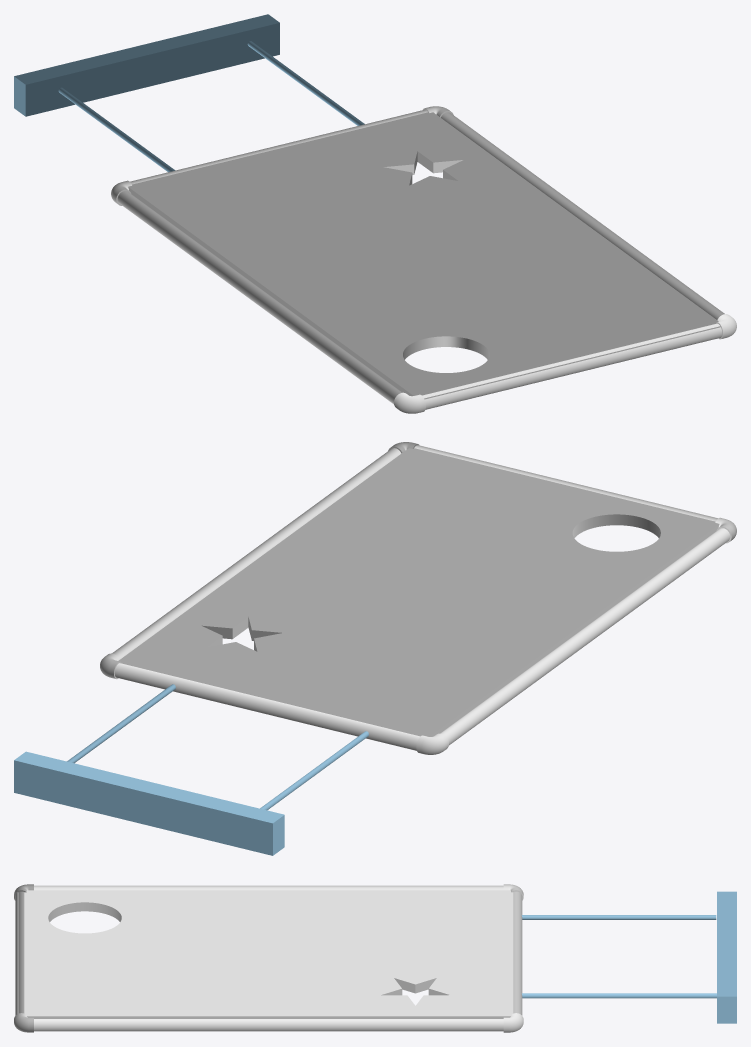
The model's file is torpedo2.obj.
The picture shows the model from 3 angles, top to bottom: view 1: azimuth 30°, elevation 25°; view 2: azimuth 150°, elevation 25°; view 3: azimuth 270°, elevation 25°; orthographic projection. The views are drawn at different scales.
Parts seen in each view (by area): view 1: mesh31, mesh27, mesh7, mesh19, mesh3, mesh1, mesh35, mesh29, mesh12; view 2: mesh31, mesh27, mesh8, mesh19, mesh3, mesh1, mesh35, mesh29, mesh12; view 3: mesh31, mesh27, mesh19, mesh1, mesh3, mesh33, mesh29, mesh12, mesh6.
Boxes of the visible parts, x1,y1,x2,y2 form: mesh31: [128, 112, 720, 398]; mesh27: [117, 112, 724, 404]; mesh7: [25, 23, 279, 116]; mesh19: [130, 109, 722, 409]; mesh3: [14, 14, 279, 84]; mesh1: [58, 41, 364, 172]; mesh35: [128, 187, 413, 396]; mesh29: [403, 336, 489, 359]; mesh12: [111, 106, 736, 413]; mesh31: [118, 445, 718, 736]; mesh27: [112, 448, 730, 745]; mesh8: [14, 760, 272, 855]; mesh19: [114, 445, 717, 750]; mesh3: [14, 751, 284, 823]; mesh1: [67, 684, 368, 810]; mesh35: [429, 524, 719, 736]; mesh29: [572, 514, 660, 538]; mesh12: [100, 442, 736, 754]; mesh31: [17, 890, 513, 1016]; mesh27: [34, 885, 503, 1031]; mesh19: [15, 891, 522, 1015]; mesh1: [521, 915, 716, 998]; mesh3: [717, 891, 736, 996]; mesh33: [27, 1016, 510, 1018]; mesh29: [48, 902, 121, 921]; mesh12: [14, 884, 523, 1032]; mesh6: [717, 996, 736, 1023].
Size of the model in its own units: 0.8434 by 0.0762 by 1.85.
